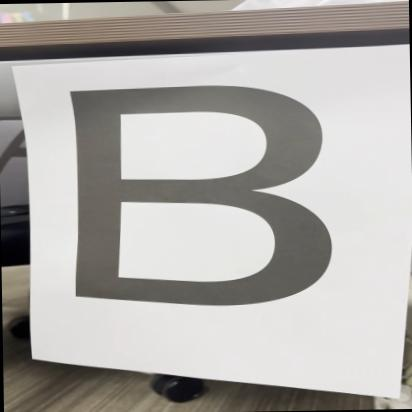seat: (49, 70, 340, 317)
